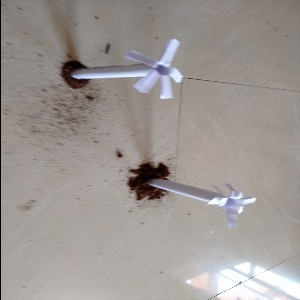weed: (135, 152, 253, 222), (65, 44, 179, 99)
